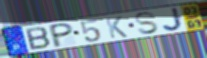5: (78, 18, 103, 43)
B: (24, 26, 53, 52)
J: (161, 6, 186, 32)
K: (103, 15, 129, 39)
P: (50, 22, 75, 49)
S: (134, 11, 162, 36)
